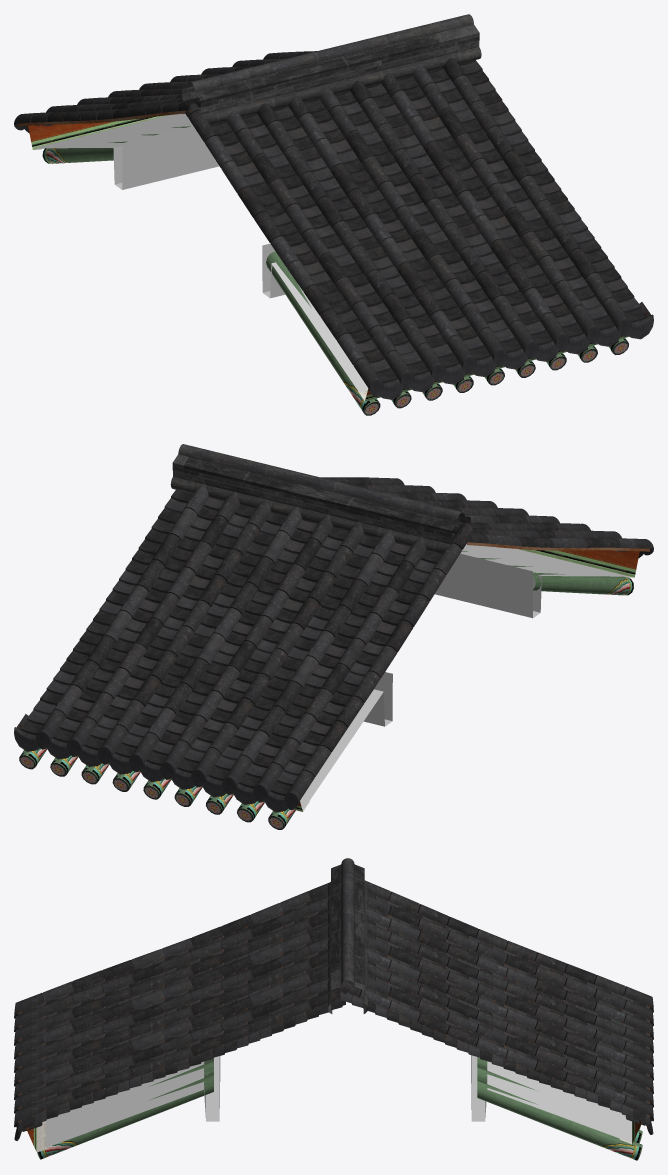
File: SM_Giwa08C.fbx
The picture shows the model from 3 angles, top to bottom: view 1: azimuth 30°, elevation 25°; view 2: azimuth 150°, elevation 25°; view 3: azimuth 270°, elevation 25°; orthographic projection. The views are drawn at different scales.
Parts seen in each view (by area): view 1: SM_Giwa08C; view 2: SM_Giwa08C; view 3: SM_Giwa08C.
Boxes of the visible parts, left/top/right/bottom form: SM_Giwa08C: left=14, top=14, right=653, bottom=415; SM_Giwa08C: left=14, top=444, right=653, bottom=829; SM_Giwa08C: left=14, top=858, right=653, bottom=1160.
Size of the model in its own units: 284 by 611 by 198.
